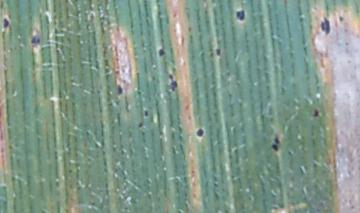tarspot: (317, 14, 332, 37), (166, 73, 178, 93), (28, 33, 42, 49), (233, 7, 247, 23), (193, 127, 206, 141), (1, 14, 11, 32), (116, 83, 124, 98), (141, 108, 150, 120), (156, 47, 166, 57), (270, 143, 279, 153), (214, 46, 221, 58), (311, 108, 319, 118), (337, 13, 345, 23), (272, 133, 279, 143), (137, 120, 144, 130)
